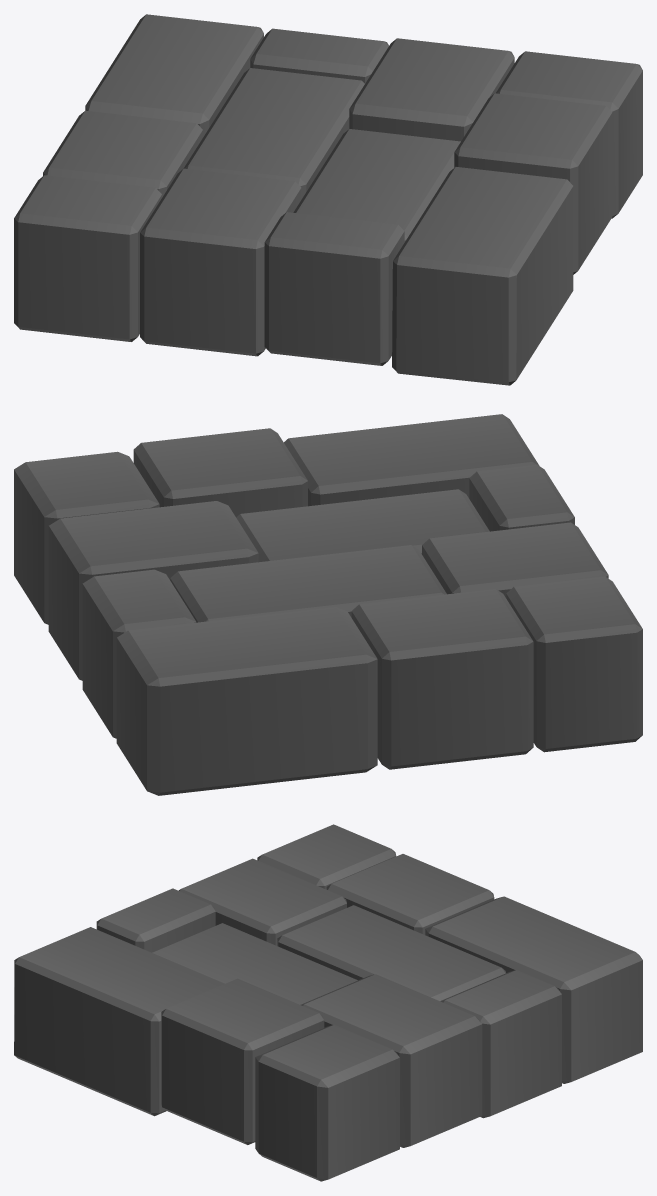
Rendered from floor123455.fbx.
3 renders of one model, top to bottom at view 1: azimuth 30°, elevation 25°; view 2: azimuth 150°, elevation 25°; view 3: azimuth 270°, elevation 25°, orthographic. The views are drawn at different scales.
Visible parts, largest first — view 1: pCube134_1.004; view 2: pCube134_1.004; view 3: pCube134_1.004.
Part boxes in pixels (x1,y1,x2,y2): pCube134_1.004: (14, 14, 642, 385); pCube134_1.004: (14, 414, 642, 795); pCube134_1.004: (14, 824, 642, 1181).
Bounding box in the file's own units: 5.63 × 1.21 × 5.63.
1 material, 1 textured.
